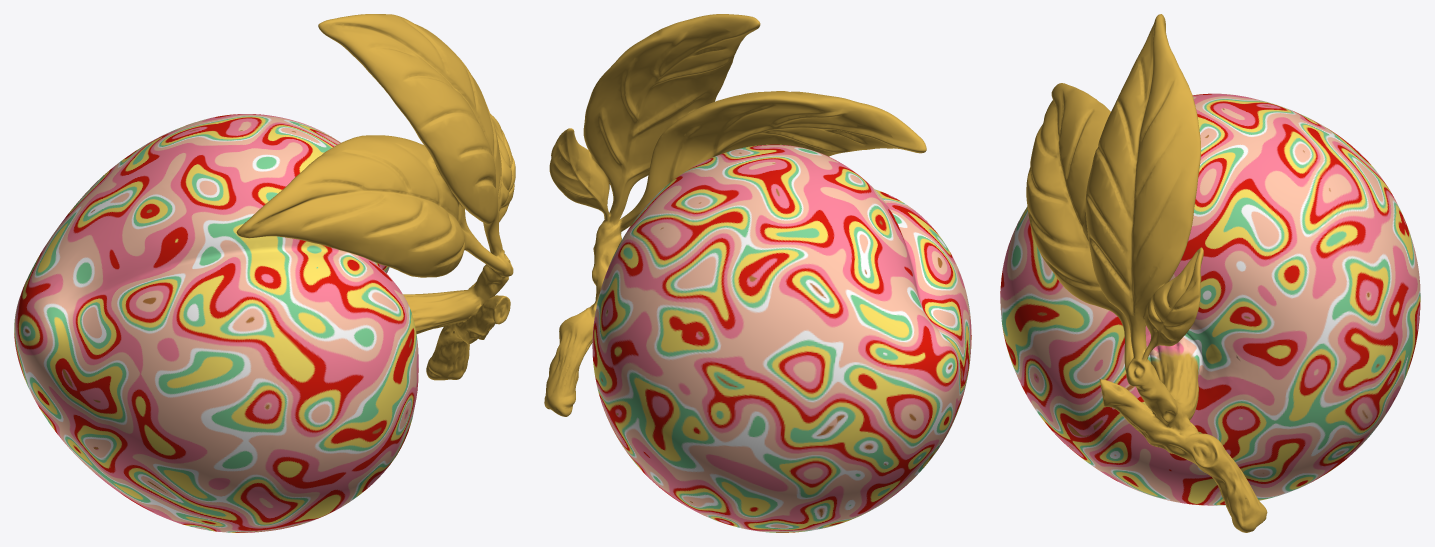
The model's file is peach.glb.
The picture shows the model from 3 angles, left to right: view 1: azimuth 30°, elevation 25°; view 2: azimuth 150°, elevation 25°; view 3: azimuth 270°, elevation 25°; orthographic projection. The views are drawn at different scales.
Parts seen in each view (by area): view 1: peach_Body0; view 2: peach_Body0; view 3: peach_Body0.
Boxes of the visible parts, box(x1,y1,x2,y2) form: peach_Body0: box(14, 14, 515, 532); peach_Body0: box(544, 14, 971, 532); peach_Body0: box(1000, 14, 1420, 532).
Bounding box in the file's own units: 1.73 × 1.8 × 1.37.
Materials: 1 (1 with a texture image).
